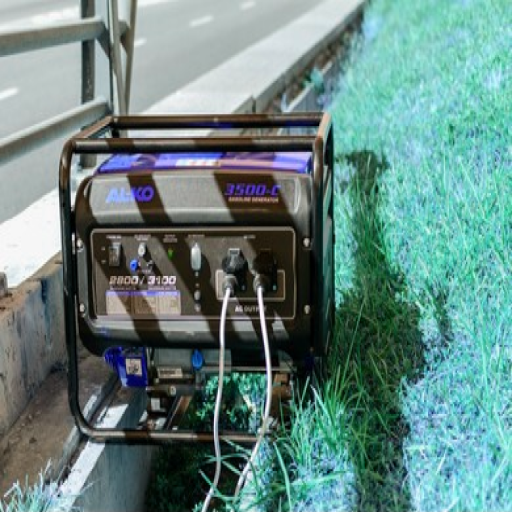portable_generator: (60, 114, 336, 444)
